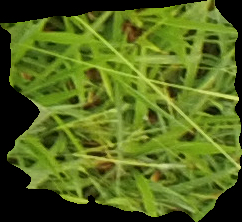grass: (1, 1, 241, 221)
